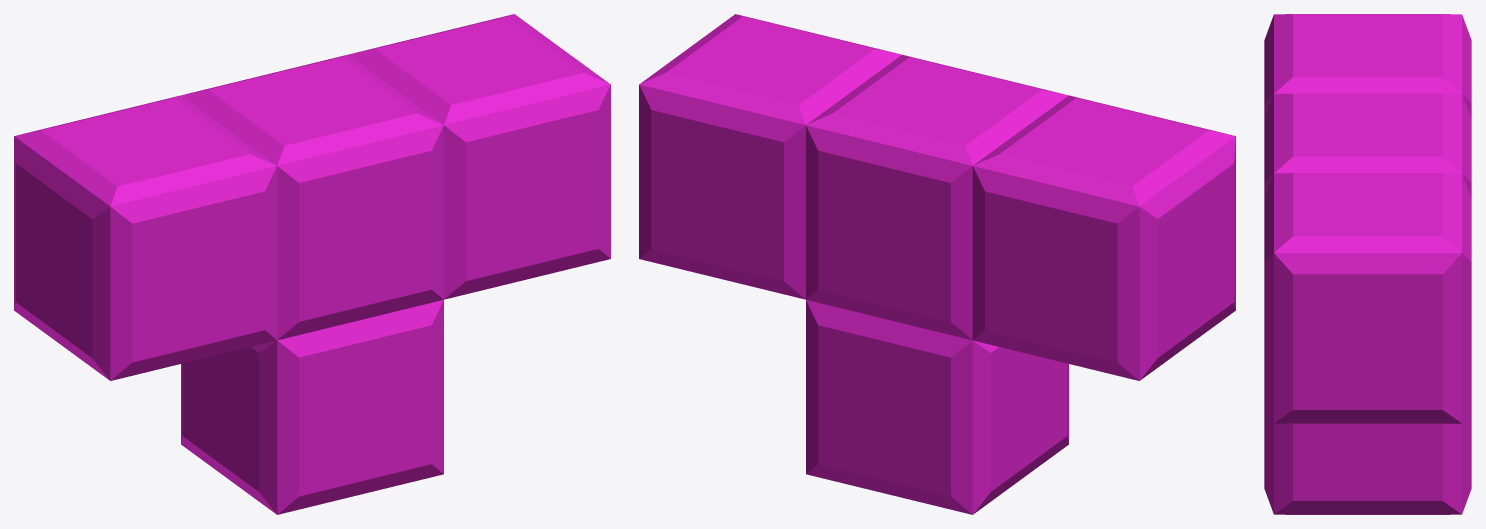
The model's file is t_tetro.gltf.
The picture shows the model from 3 angles, left to right: view 1: azimuth 30°, elevation 25°; view 2: azimuth 150°, elevation 25°; view 3: azimuth 270°, elevation 25°; orthographic projection. The views are drawn at different scales.
Visible parts, largest first — view 1: t_tetro; view 2: t_tetro; view 3: t_tetro.
Part boxes in pixels (<box>): t_tetro: <box>14,14,610,514</box>; t_tetro: <box>639,14,1235,514</box>; t_tetro: <box>1264,14,1471,514</box>.
Size of the model in its own units: 3.1 by 2.1 by 1.1.
1 material, 1 textured.
